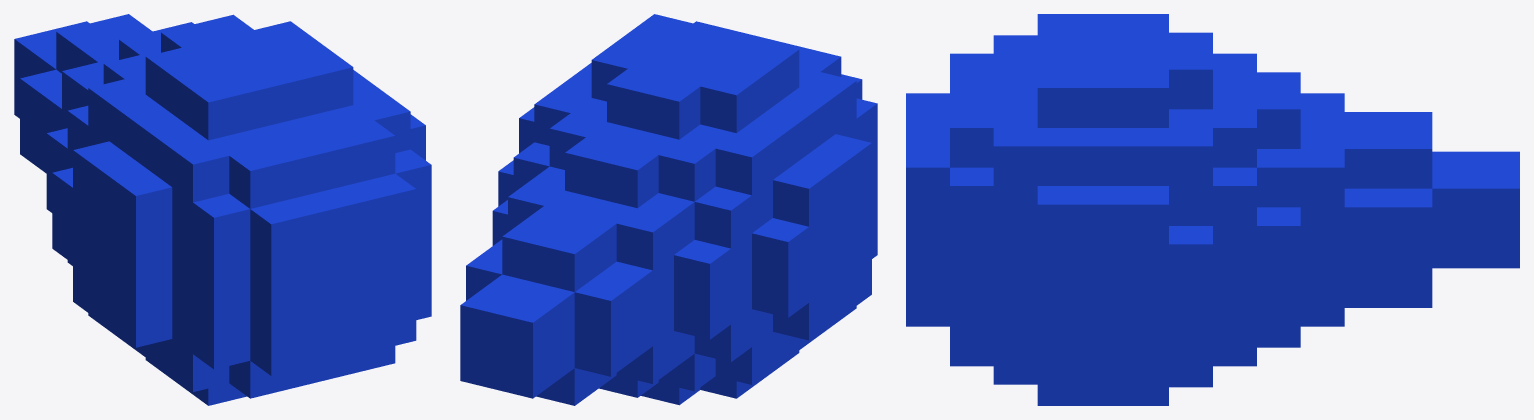
The model's file is Water drop.fbx.
3 views of the same model, side by side, from view 1: azimuth 30°, elevation 25°; view 2: azimuth 150°, elevation 25°; view 3: azimuth 270°, elevation 25° (orthographic). The views are drawn at different scales.
Visible parts, largest first — view 1: unnamed_mesh1.002; view 2: unnamed_mesh1.002; view 3: unnamed_mesh1.002.
Boxes of the visible parts, x1,y1,x2,y2 form: unnamed_mesh1.002: (14, 14, 431, 405); unnamed_mesh1.002: (460, 14, 877, 405); unnamed_mesh1.002: (906, 14, 1519, 405).
Bounding box in the file's own units: 800 × 800 × 1400.
